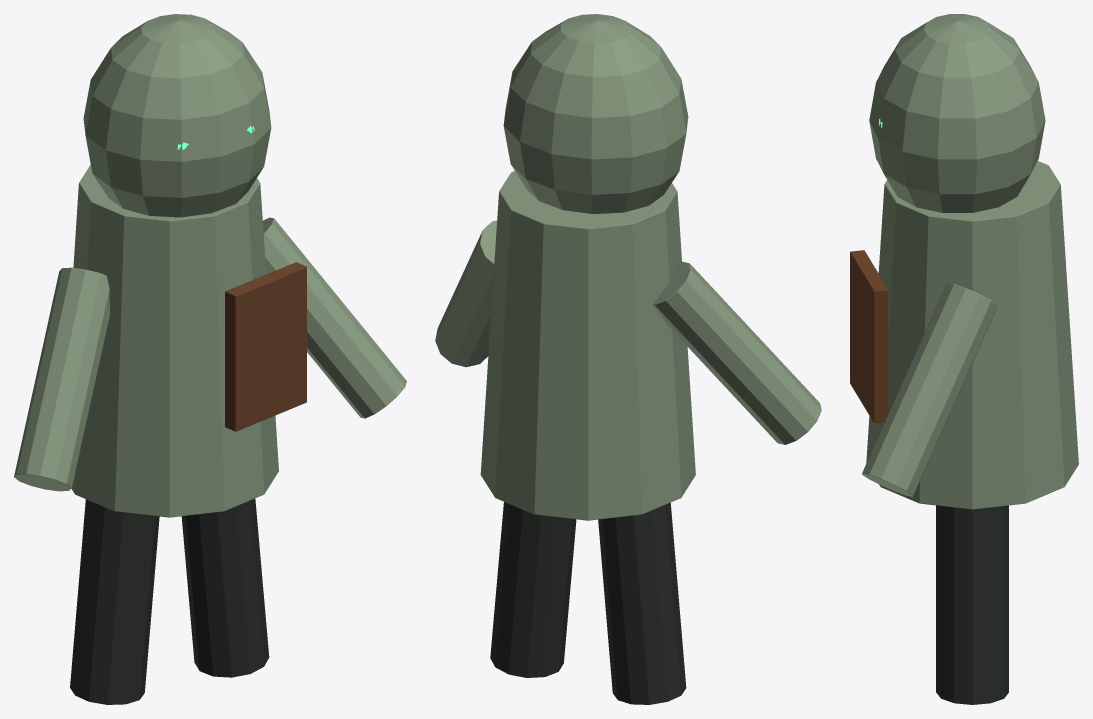
The model's file is CH_Zombie.fbx.
3 views of the same model, side by side, from view 1: azimuth 30°, elevation 25°; view 2: azimuth 150°, elevation 25°; view 3: azimuth 270°, elevation 25° (orthographic). The views are drawn at different scales.
Visible parts, largest first — view 1: CH_Zombie; view 2: CH_Zombie; view 3: CH_Zombie.
Boxes of the visible parts, box(x1,y1,x2,y2) form: CH_Zombie: box(14, 14, 406, 704); CH_Zombie: box(435, 14, 821, 704); CH_Zombie: box(850, 14, 1078, 704).
Size of the model in its own units: 142 by 75.32 by 234.
